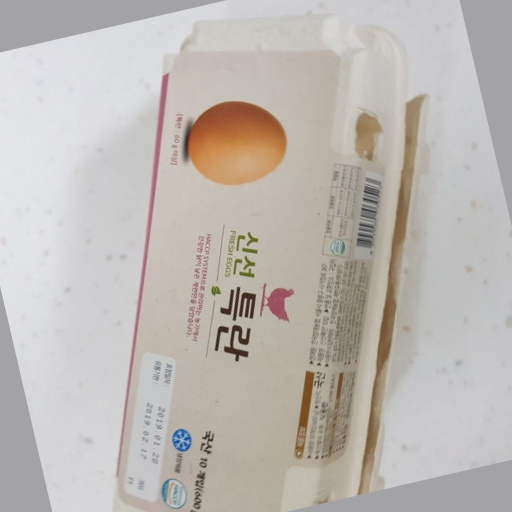Paper_0: (113, 9, 432, 512)
